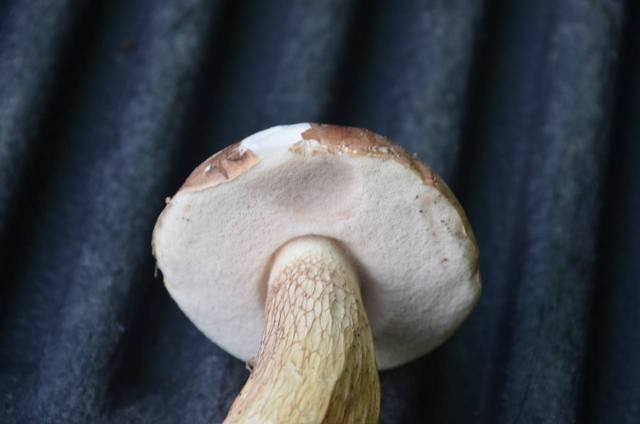Non-edible Mushroom: (149, 120, 483, 423)
